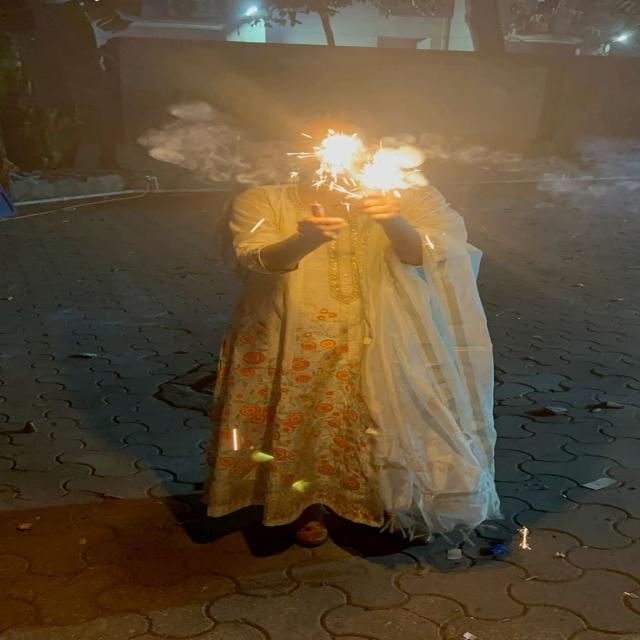fire: (316, 130, 420, 189)
